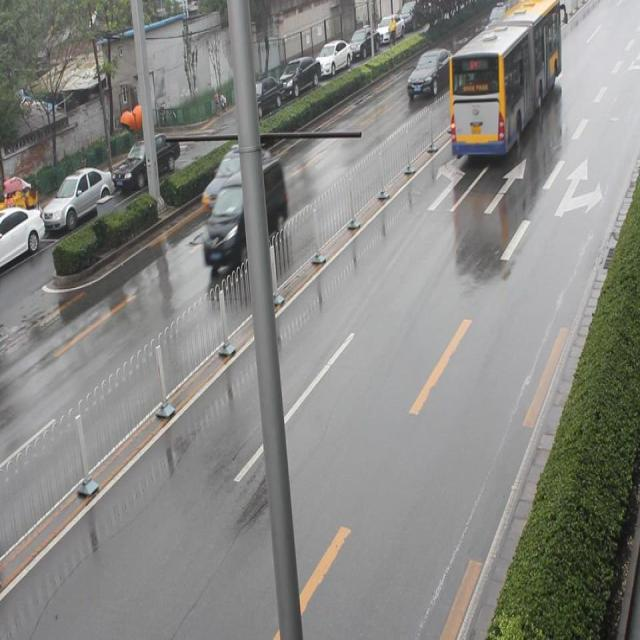car: (201, 146, 264, 207), (404, 45, 452, 102)
truck: (199, 157, 290, 282)
van: (448, 1, 559, 152)
